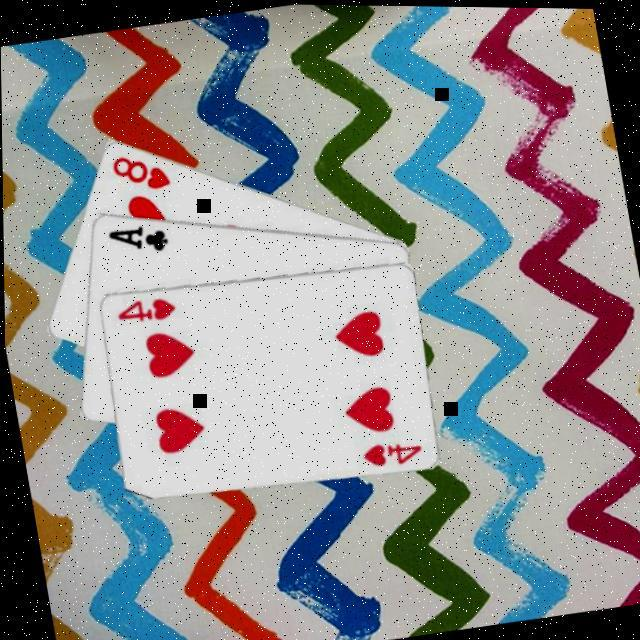4H: (355, 434, 424, 473), (110, 292, 177, 331)
8H: (105, 147, 174, 200)
AC: (103, 219, 170, 262)
